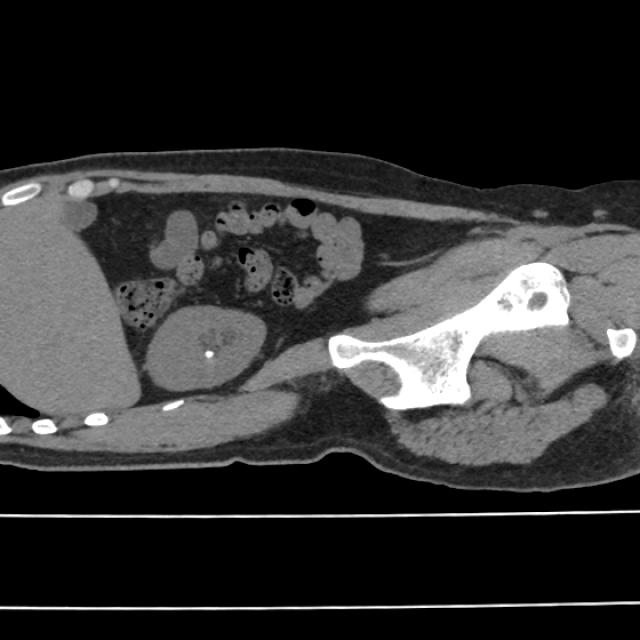kidney: (145, 308, 268, 391)
stone: (203, 347, 216, 360)
